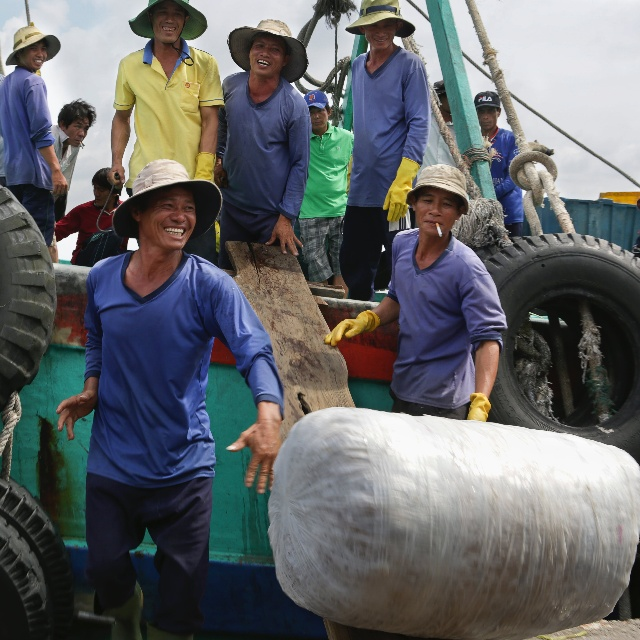Guantes: (324, 304, 377, 343), (384, 155, 417, 217), (468, 391, 490, 419), (193, 151, 215, 177)
Sin_guantes: (226, 424, 281, 490), (55, 390, 96, 439), (265, 217, 305, 252), (50, 171, 68, 196), (108, 165, 125, 186)
